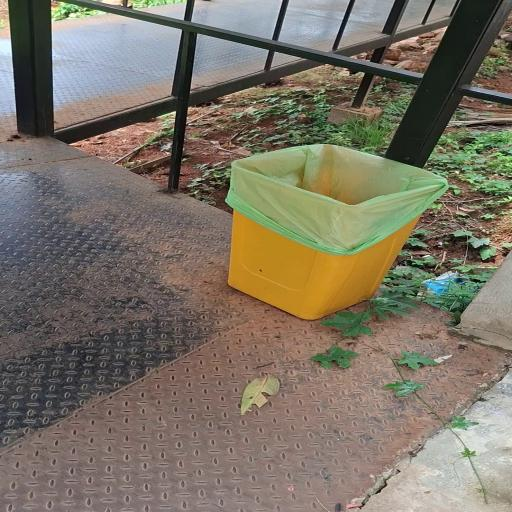Nilkamal-dustbin-detection: (226, 145, 447, 319)
